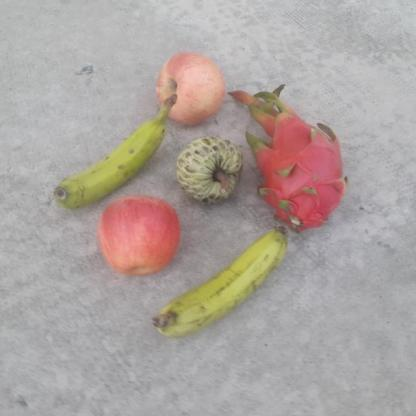annona: (177, 135, 245, 203)
apple: (96, 195, 182, 276), (154, 50, 228, 126)
banana: (154, 225, 290, 335), (52, 94, 178, 210)
pitaya: (255, 104, 350, 234)
